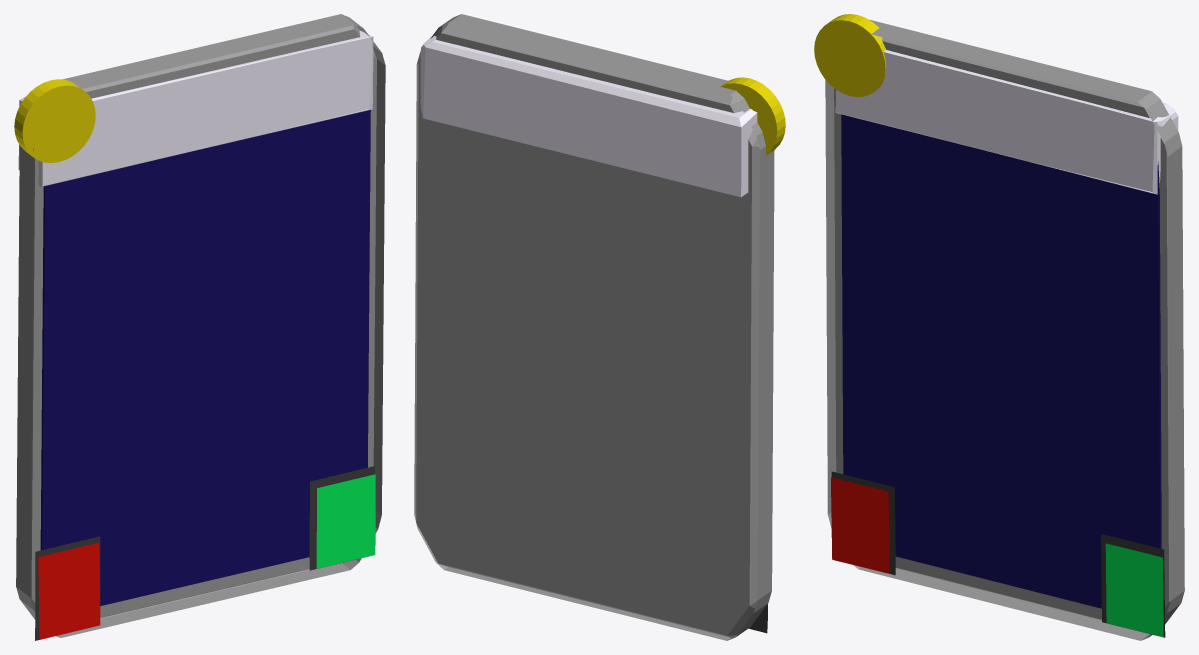
Rendered from cardmodel.fbx.
The picture shows the model from 3 angles, left to right: view 1: azimuth 30°, elevation 25°; view 2: azimuth 150°, elevation 25°; view 3: azimuth 330°, elevation 25°; orthographic projection.
Parts seen in each view (by area): view 1: card_base, card_flame, Name-Plate, cost, ATK-plate, HP-Plate, ATK-plate.flame.001, ATK-plate.flame; view 2: card_flame, Name-Plate, cost; view 3: card_base, card_flame, Name-Plate, ATK-plate, cost, HP-Plate, ATK-plate.flame.001, ATK-plate.flame.
Boxes of the visible parts, x1,y1,x2,y2 form: card_base: (40,110,370,605); card_flame: (16,14,385,637); Name-Plate: (18,30,373,186); cost: (14,79,95,162); ATK-plate: (38,542,100,639); HP-Plate: (316,474,375,568); ATK-plate.flame.001: (309,466,374,570); ATK-plate.flame: (35,536,100,640); card_flame: (414,14,774,640); Name-Plate: (420,36,757,197); cost: (720,77,785,155); card_base: (841,114,1161,608); card_flame: (825,19,1184,640); Name-Plate: (835,50,1178,194); ATK-plate: (831,477,889,573); cost: (814,14,886,96); HP-Plate: (1105,543,1163,637); ATK-plate.flame.001: (1101,534,1165,637); ATK-plate.flame: (831,471,895,575).
Size of the model in its own units: 179 by 263 by 23.72.
